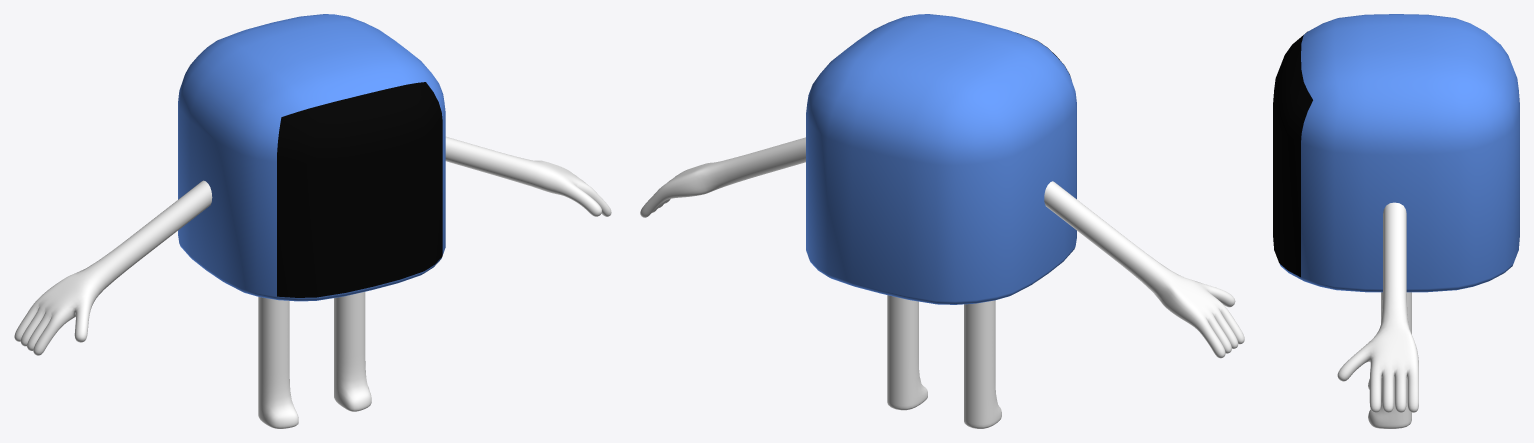
File: Cleaner.fbx
3 views of the same model, side by side, from view 1: azimuth 30°, elevation 25°; view 2: azimuth 150°, elevation 25°; view 3: azimuth 270°, elevation 25° (orthographic).
Visible parts, largest first — view 1: Roundcube, Roundcube.001, Arms.009, Arms.002, Legs.009, Legs.002; view 2: Roundcube, Arms.009, Arms.002, Legs.009, Legs.002; view 3: Roundcube, Arms.002, Roundcube.001, Legs.002.
Part boxes in pixels (bbox=[...]): Roundcube: bbox=[178, 14, 445, 301]; Roundcube.001: bbox=[277, 82, 442, 297]; Arms.009: bbox=[14, 180, 212, 355]; Arms.002: bbox=[445, 136, 611, 216]; Legs.009: bbox=[258, 297, 298, 428]; Legs.002: bbox=[334, 292, 371, 411]; Roundcube: bbox=[806, 14, 1076, 304]; Arms.009: bbox=[1044, 181, 1244, 358]; Arms.002: bbox=[640, 137, 805, 217]; Legs.009: bbox=[964, 300, 1001, 428]; Legs.002: bbox=[887, 295, 927, 410]; Roundcube: bbox=[1280, 14, 1519, 292]; Arms.002: bbox=[1337, 202, 1418, 412]; Roundcube.001: bbox=[1273, 31, 1312, 277]; Legs.002: bbox=[1368, 292, 1411, 428].
Size of the model in its own units: 3.09 by 1.15 by 1.89.
